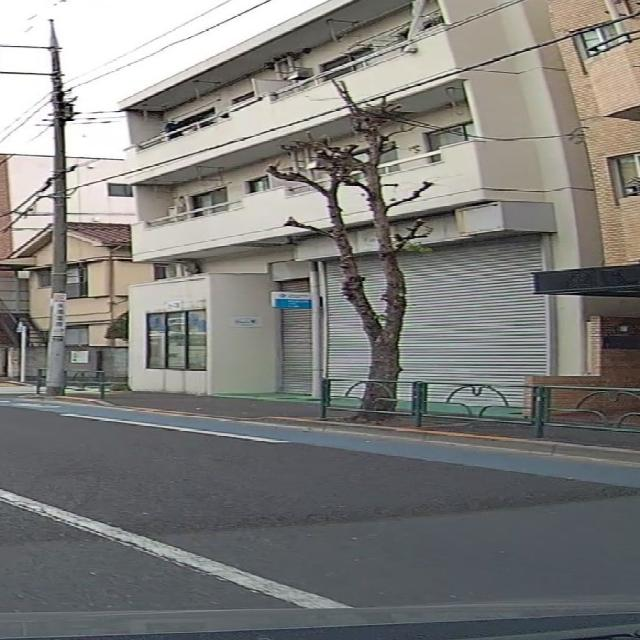maple: (264, 75, 456, 420)
